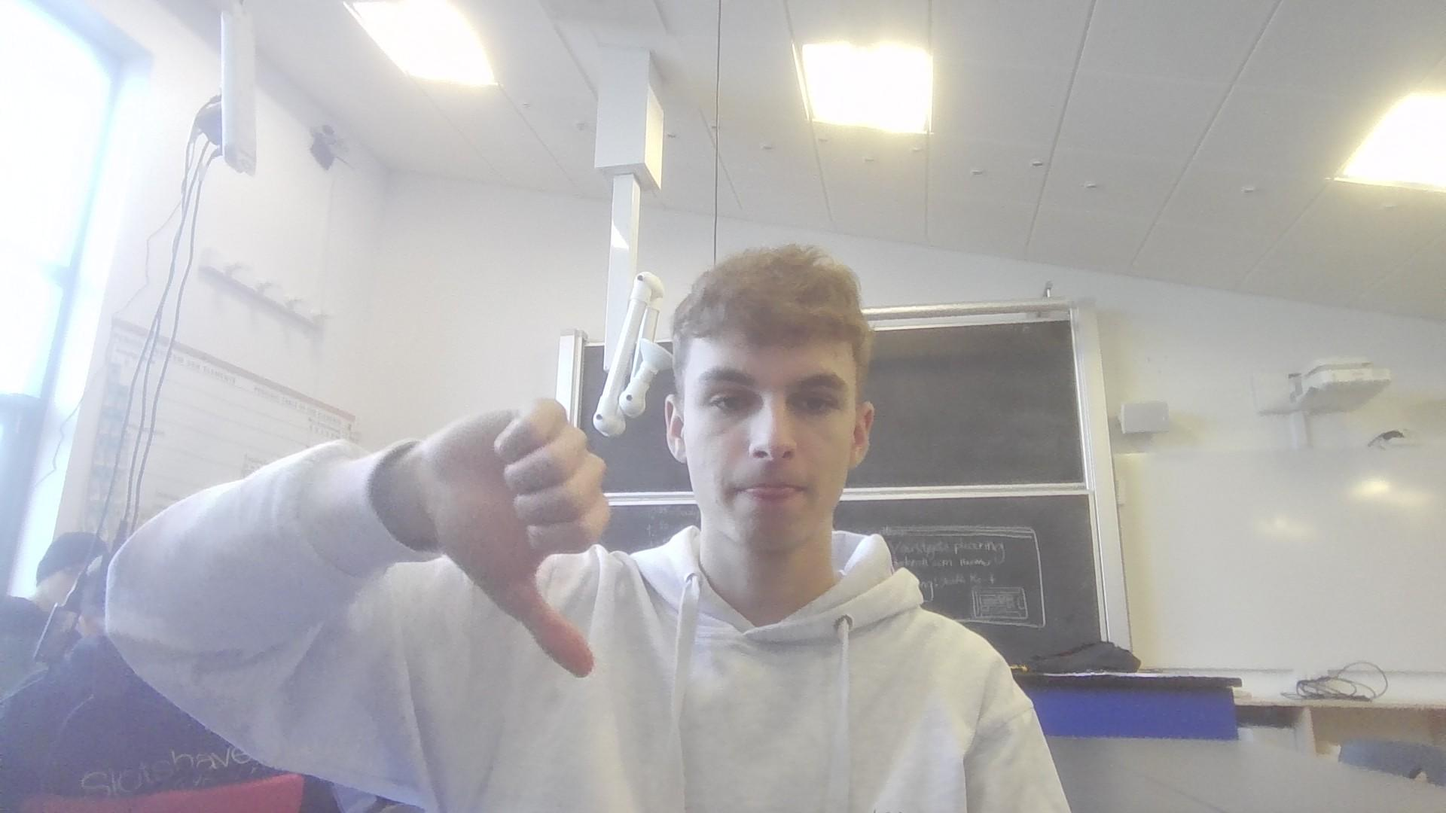thumbs down: (399, 396, 616, 687)
